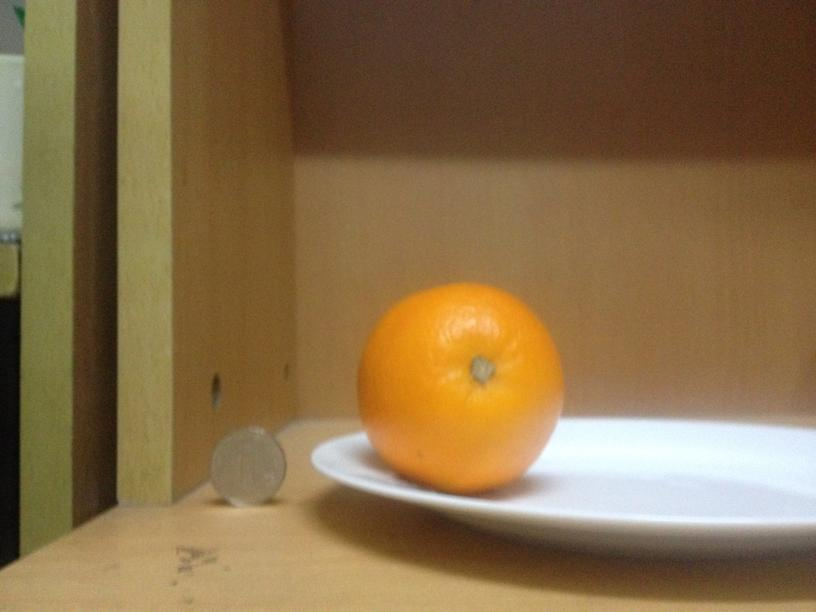coin: (205, 428, 289, 508)
orange: (353, 279, 564, 493)
